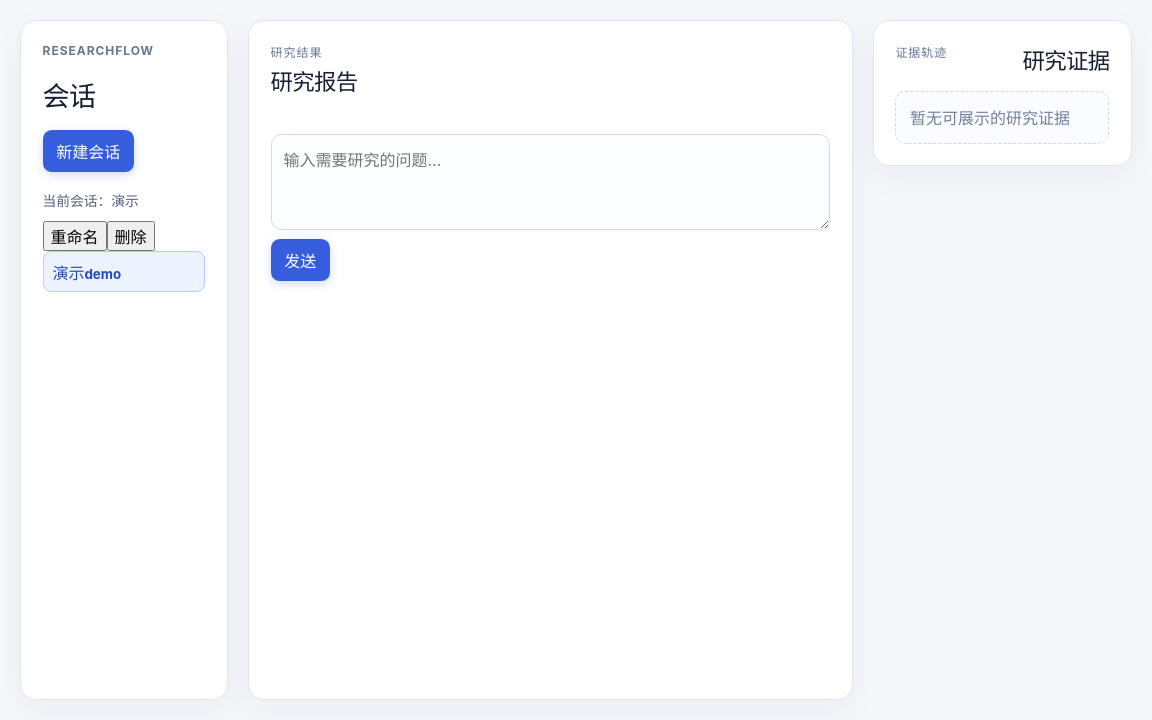
Test case: App › loads the newest persisted run when a saved session is selected
Step 1. Click the button titled "demo" → (124, 272), box [43,251,205,292]
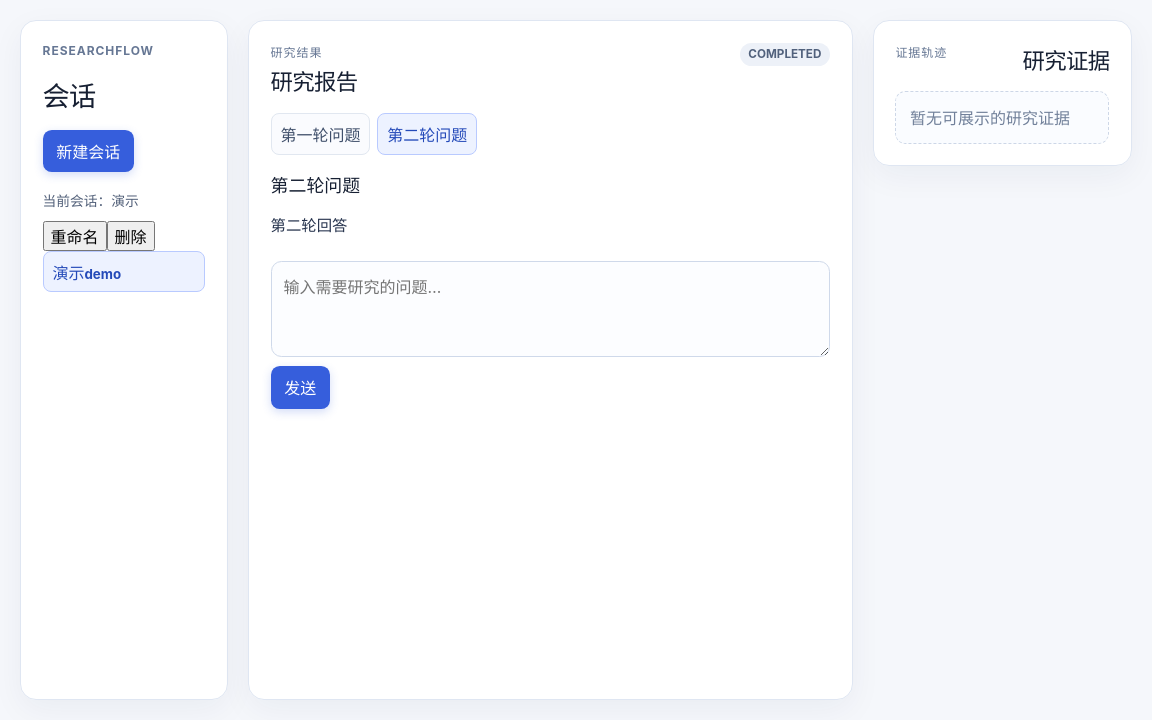
Expected: the button "第二轮问题" is shown, [377,113,477,154]
Expected: the text "第二轮回答" is shown, [271,216,347,234]
